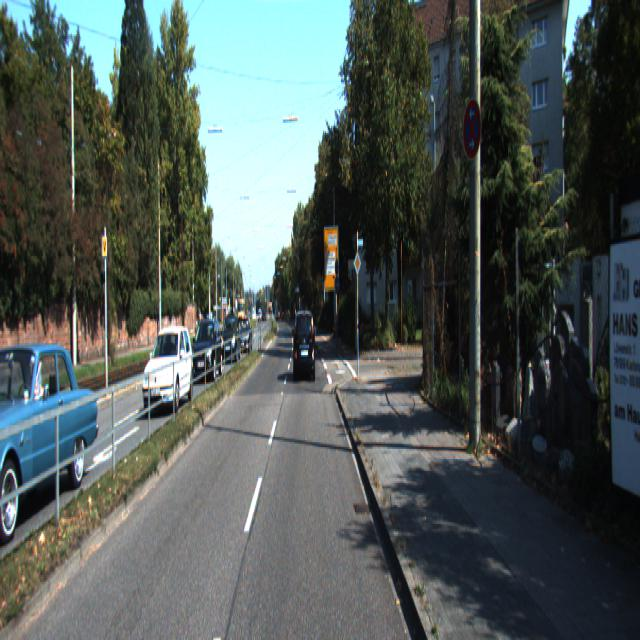Car: (0, 334, 102, 544), (143, 320, 197, 416), (192, 316, 225, 384), (294, 309, 316, 384), (220, 312, 240, 363), (235, 317, 254, 353)
